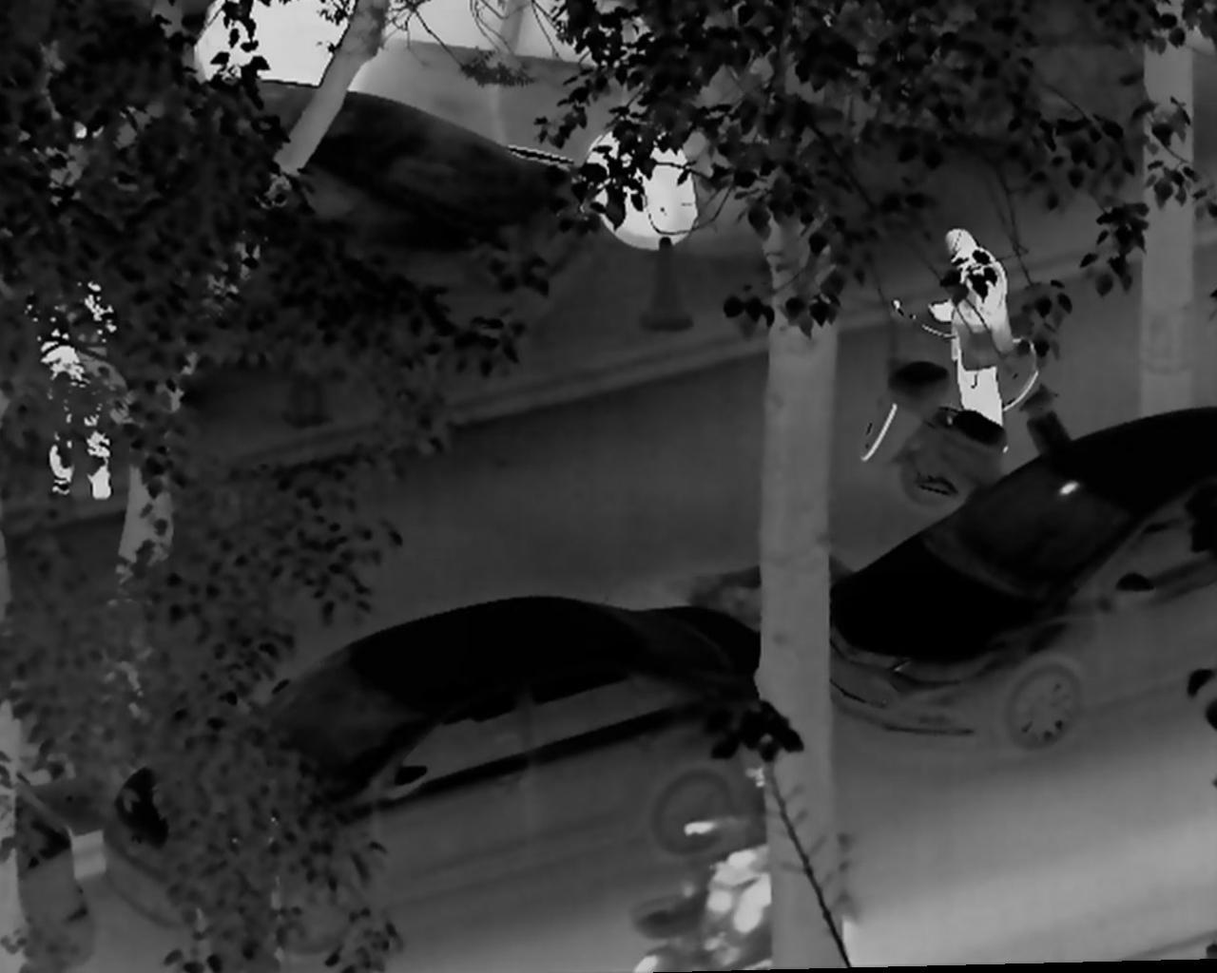person: (15, 263, 122, 511), (679, 730, 779, 969), (920, 228, 1008, 462)
